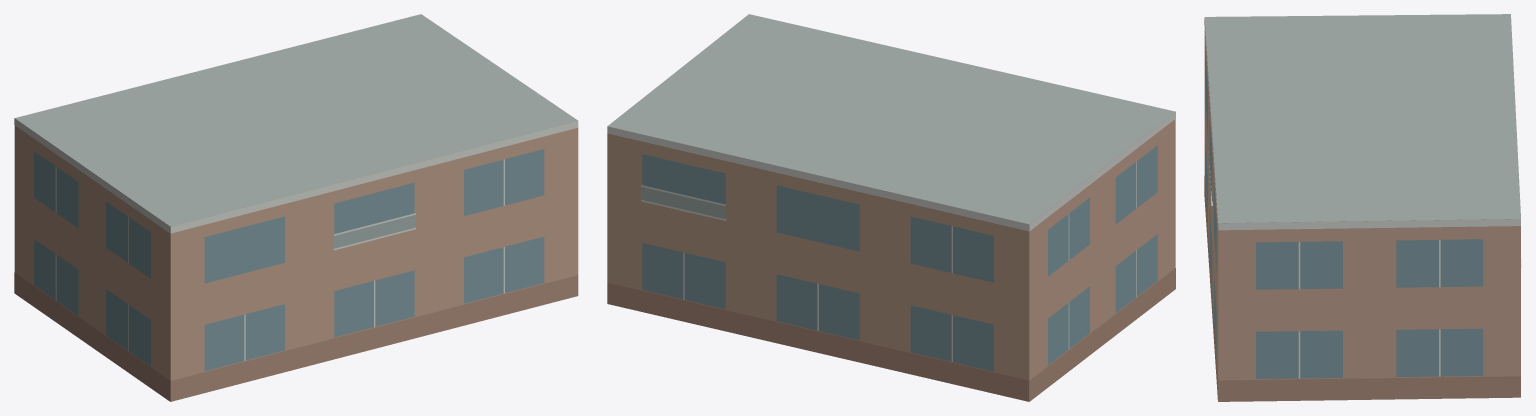
File: survey-upis-32836837.glb
3 views of the same model, side by side, from view 1: azimuth 30°, elevation 25°; view 2: azimuth 150°, elevation 25°; view 3: azimuth 270°, elevation 25° (orthographic).
Parts seen in each view (by area): view 1: survey-upis-32836837.tmp; view 2: survey-upis-32836837.tmp; view 3: survey-upis-32836837.tmp.
Boxes of the visible parts, left/top/right/bottom form: survey-upis-32836837.tmp: left=14, top=14, right=578, bottom=401; survey-upis-32836837.tmp: left=607, top=14, right=1175, bottom=401; survey-upis-32836837.tmp: left=1204, top=14, right=1521, bottom=401.
Size of the model in its own units: 15.32 by 6.1 by 9.81.
